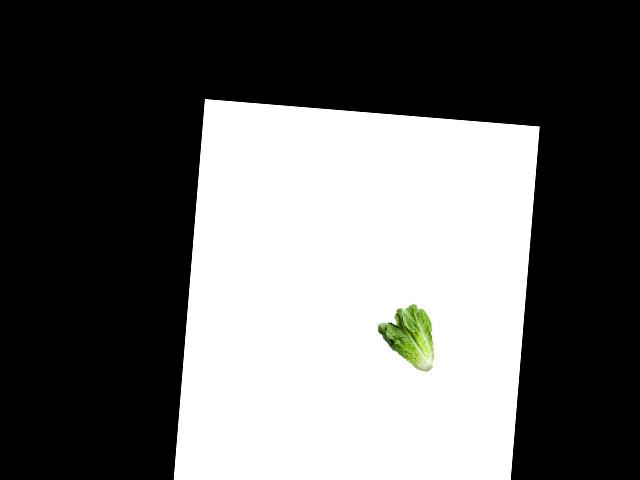lettuce: (371, 301, 443, 376)
